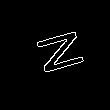N_W: (23, 28, 83, 81)
